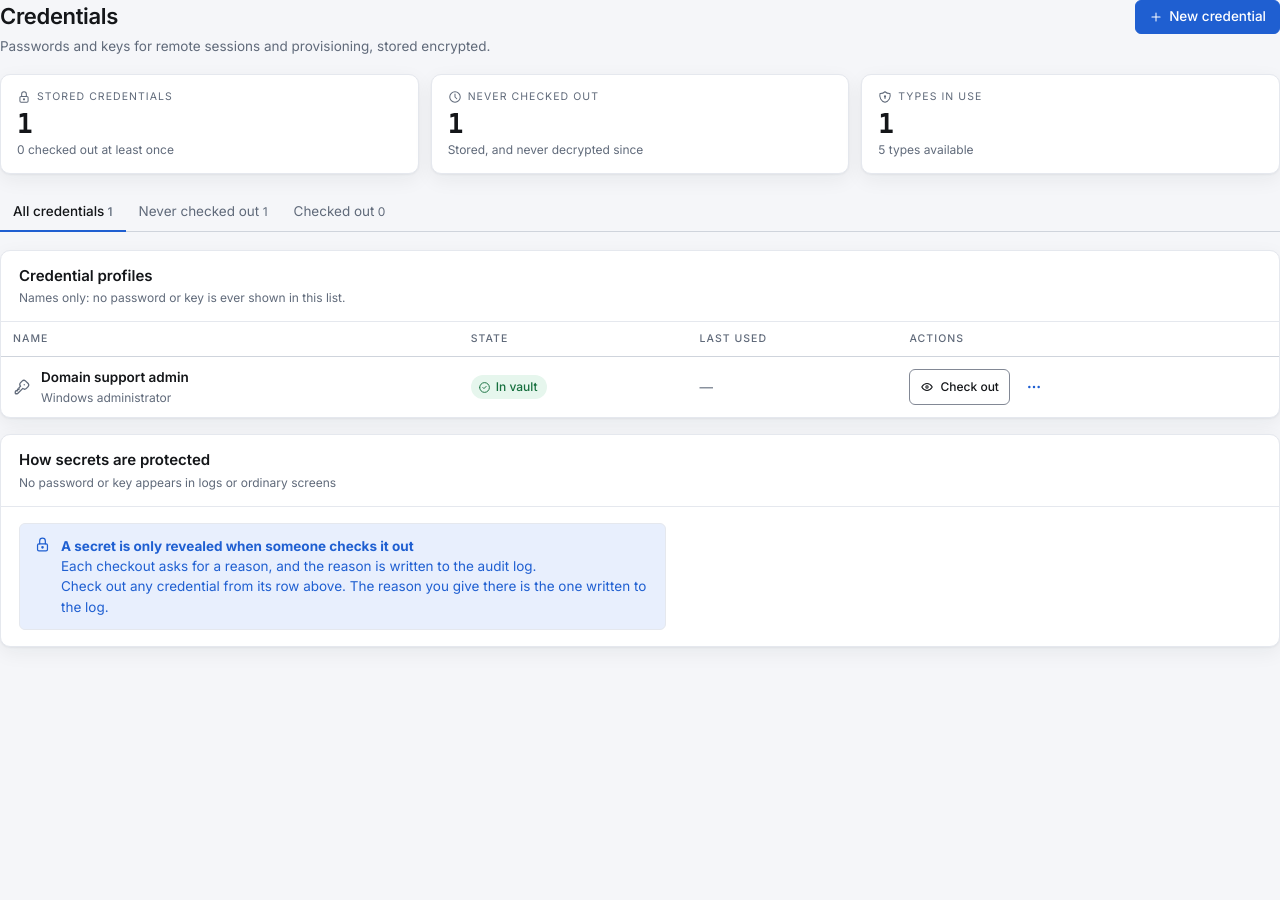
Scenario: CredentialsPage › reveals a secret only after an audited checkout, and only inside the one-time dialog
Expected: the text "Domain support admin" is shown, [41,367,189,387]
Expected: the text "sup3r-s3cr3t-value" is not shown
Click the button "Check out".
click(960, 387)  # box [910,369,1010,405]
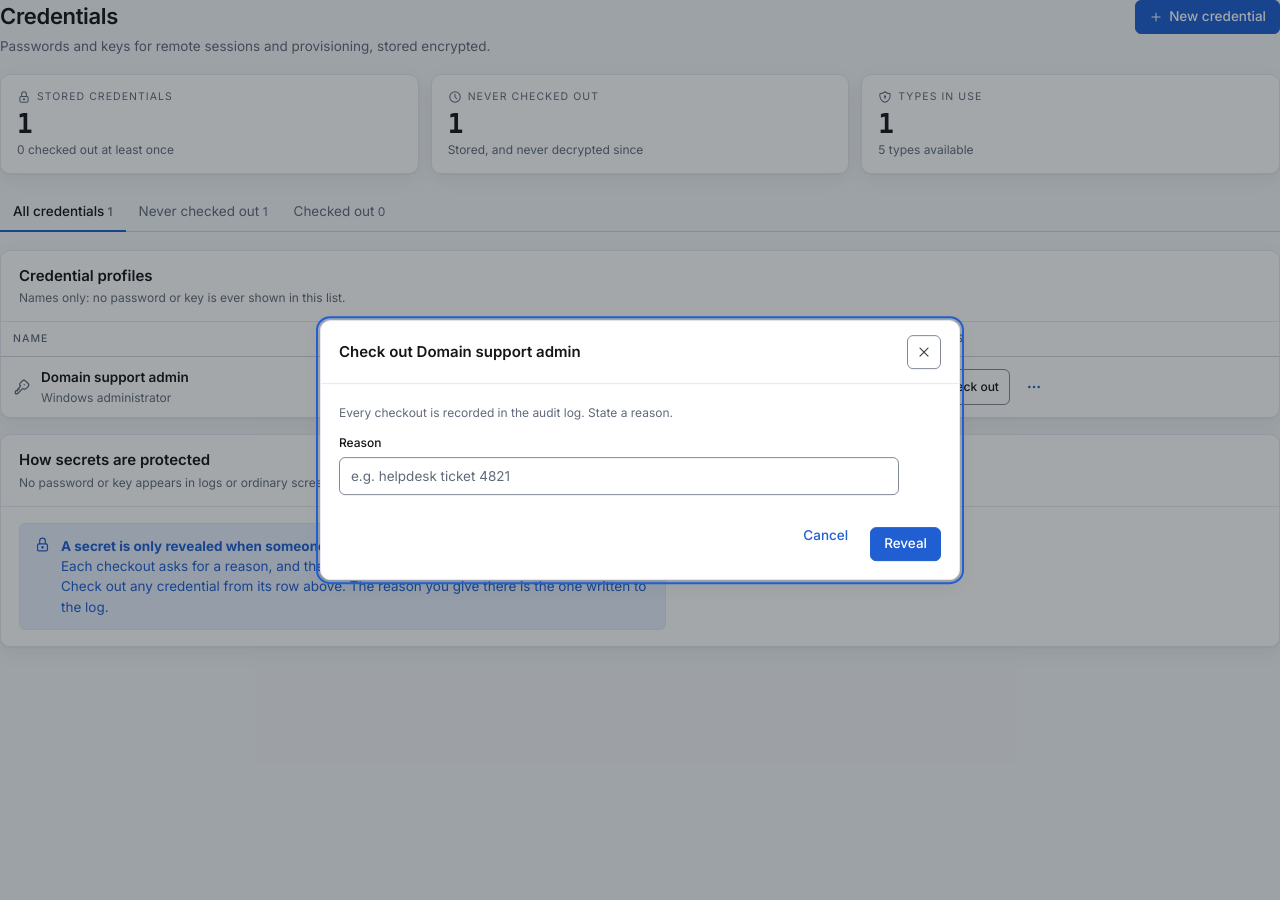
Type "helpdesk ticket 4821" into the field with placeholder "e.g. helpdesk ticket 4821".
click(619, 476); type("helpdesk ticket 4821")  # box [339,457,899,495]
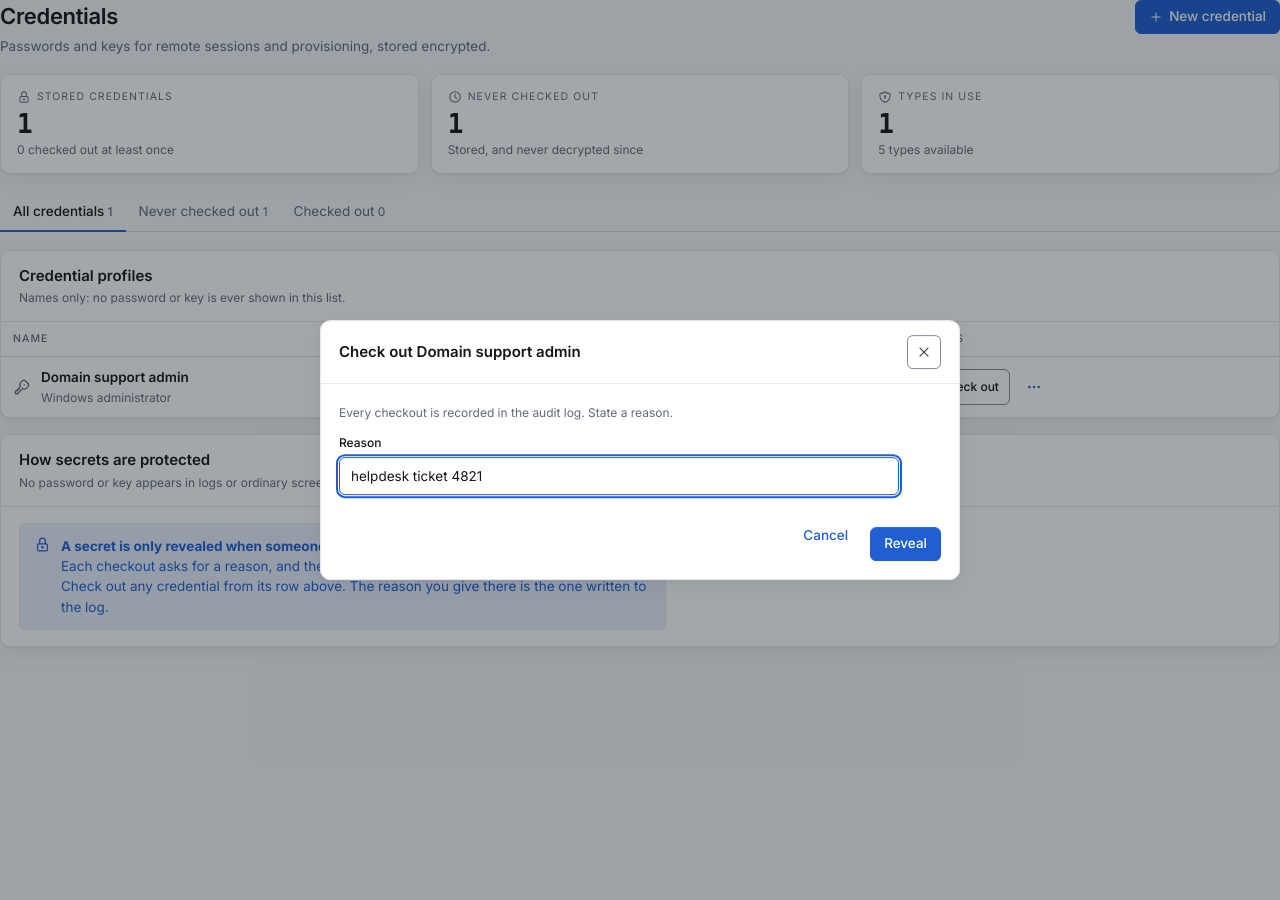
Click the button "Reveal".
click(906, 544)  # box [870,527,941,561]
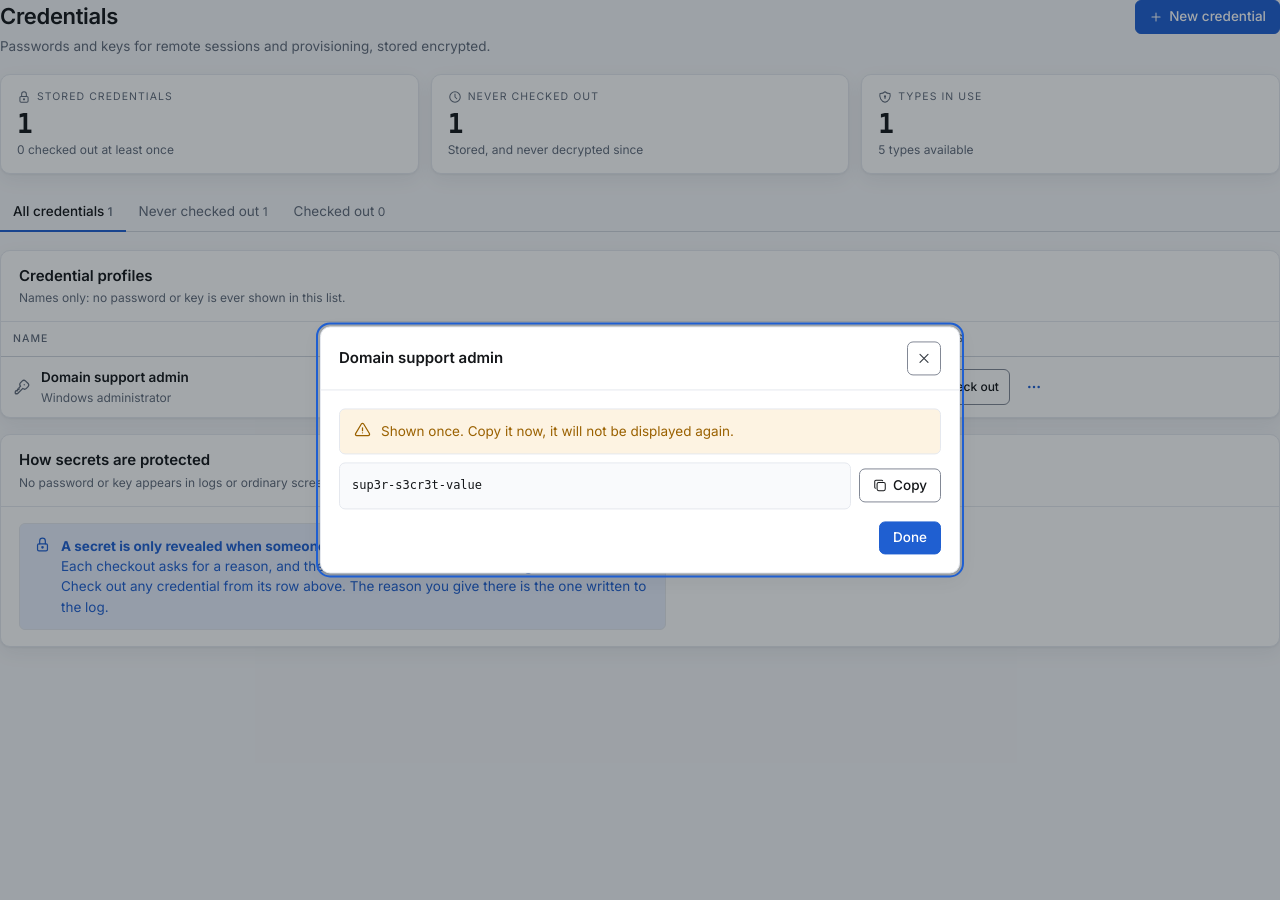
Result: the text "sup3r-s3cr3t-value" is shown at [339,463,851,509]
Result: the text "Shown once. Copy it now, it will not be displayed again." is shown at [381,421,734,442]
Note: Closing the dialog clears it from local state -- it must not linger.
Click the button "Done".
click(910, 538)  # box [879,521,941,555]
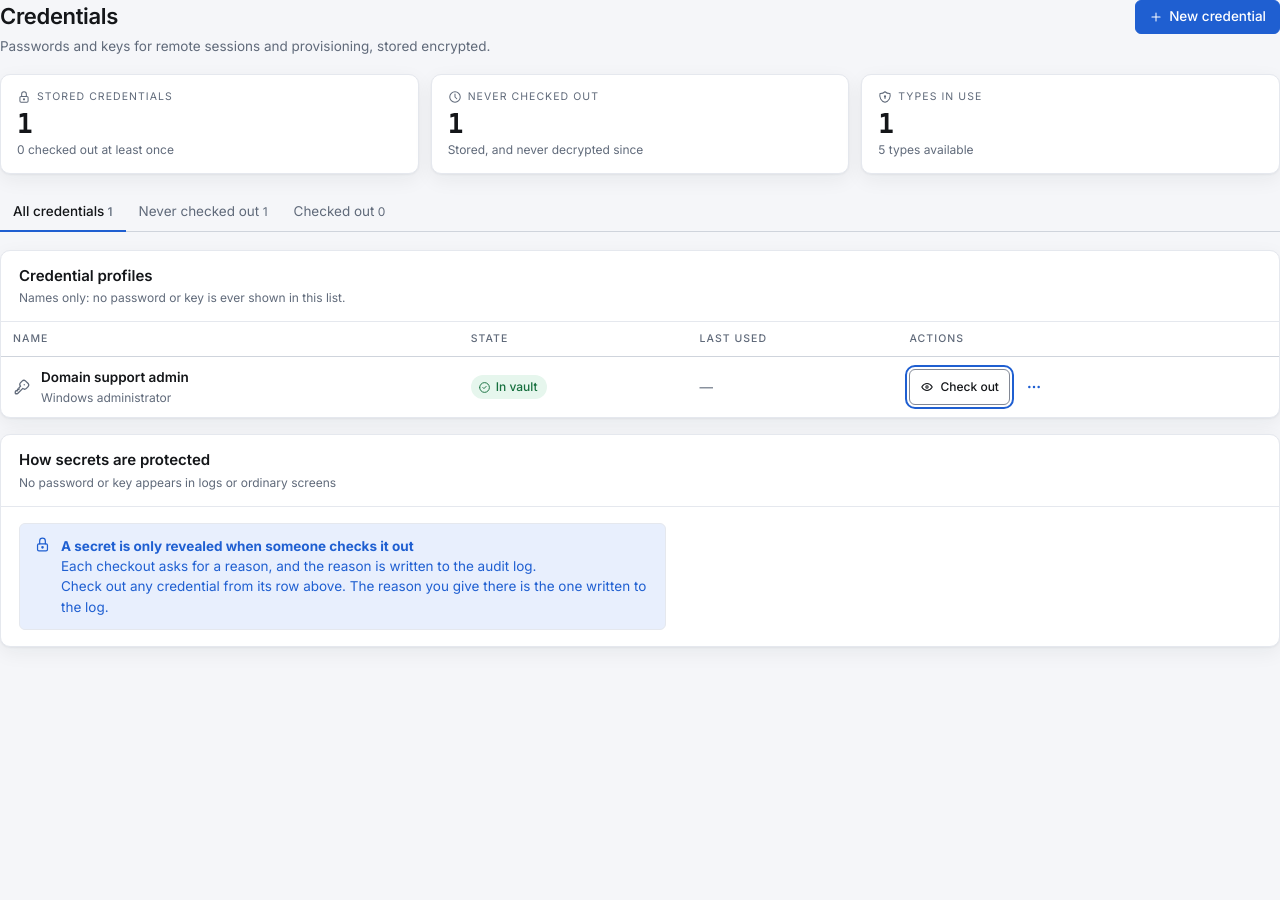
Result: the text "sup3r-s3cr3t-value" is gone
